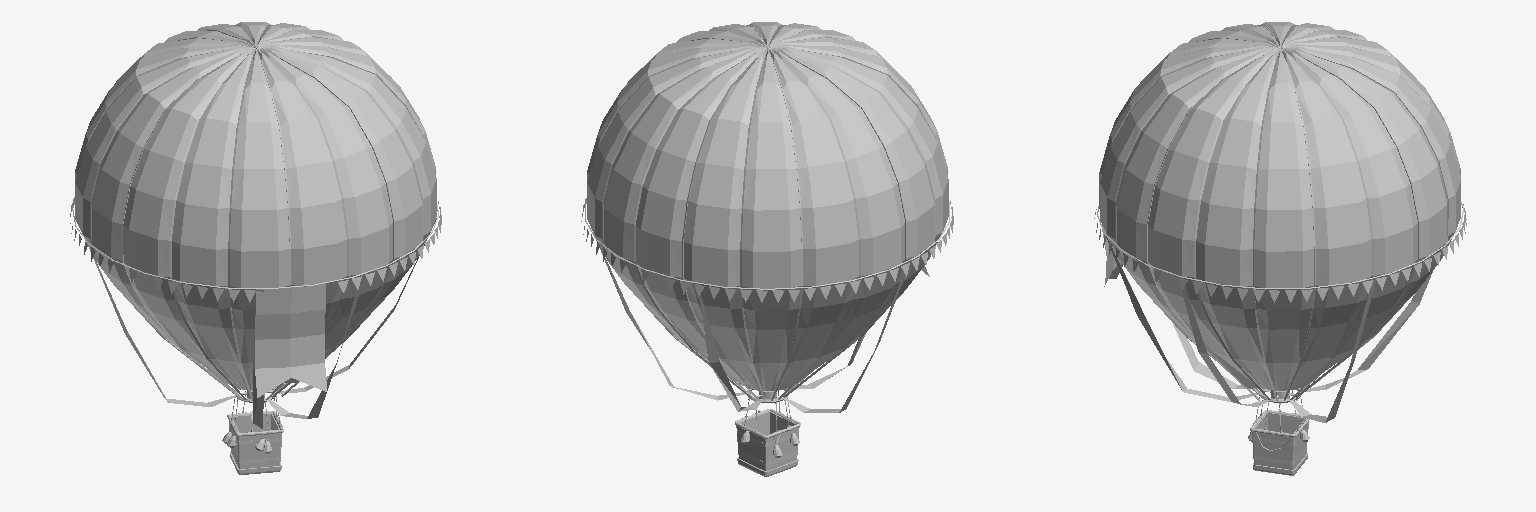
File: baloon.obj
3 views of the same model, side by side, from view 1: azimuth 30°, elevation 25°; view 2: azimuth 150°, elevation 25°; view 3: azimuth 270°, elevation 25° (orthographic).
Visible parts, largest first — view 1: Baloon_01; view 2: Baloon_01; view 3: Baloon_01.
Part boxes in pixels (x1,y1,x2,y2): Baloon_01: (70, 22, 441, 474); Baloon_01: (581, 22, 953, 476); Baloon_01: (1094, 22, 1466, 475).
Size of the model in its own units: 113 by 140 by 113.